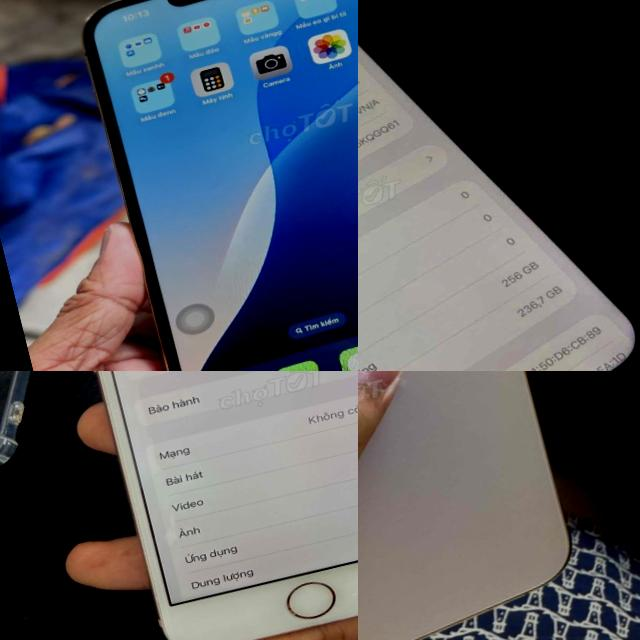gen_12_13: (65, 0, 358, 371), (358, 371, 596, 640)
gen_15: (358, 0, 640, 371)
gen_7_8: (36, 371, 358, 640)
